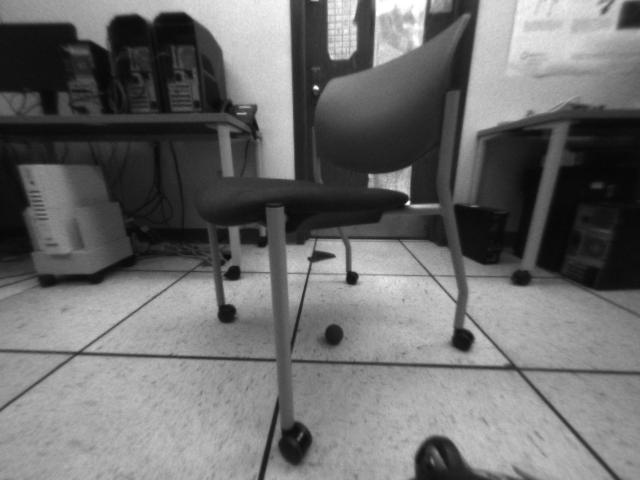dogtoy: (319, 318, 350, 351)
